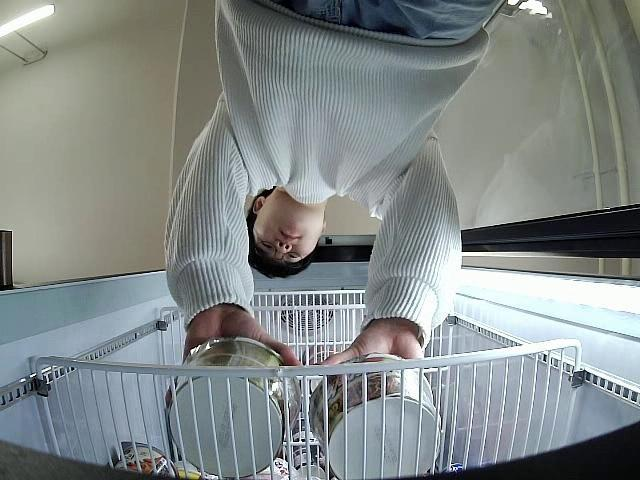03_chapagetti_L: (165, 340, 300, 476), (308, 351, 443, 480)
